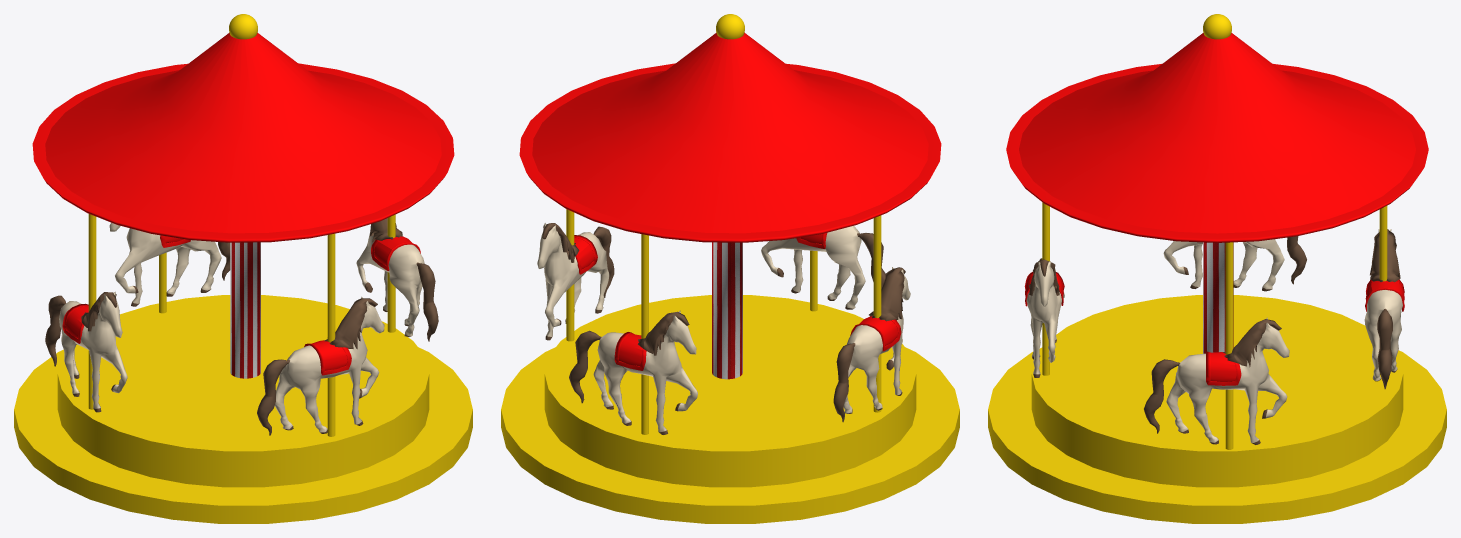
The model's file is ATLIKARINCA.fbx.
3 renders of one model, left to right at view 1: azimuth 30°, elevation 25°; view 2: azimuth 150°, elevation 25°; view 3: azimuth 270°, elevation 25°, orthographic.
Parts seen in each view (by area): view 1: Cylinder, Cylinder.003; view 2: Cylinder, Cylinder.003; view 3: Cylinder, Cylinder.003.
Boxes of the visible parts, bbox=[...] form: Cylinder: bbox=[14, 14, 472, 523]; Cylinder.003: bbox=[45, 214, 438, 436]; Cylinder: bbox=[501, 14, 959, 523]; Cylinder.003: bbox=[537, 209, 910, 434]; Cylinder: bbox=[988, 14, 1446, 523]; Cylinder.003: bbox=[1024, 202, 1404, 449].
Bounding box in the file's own units: 2030 × 2023 × 2041.
